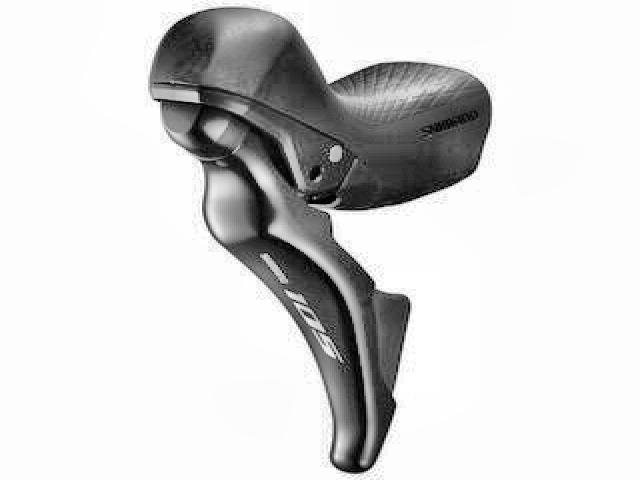sti_shifter: (150, 8, 489, 475)
